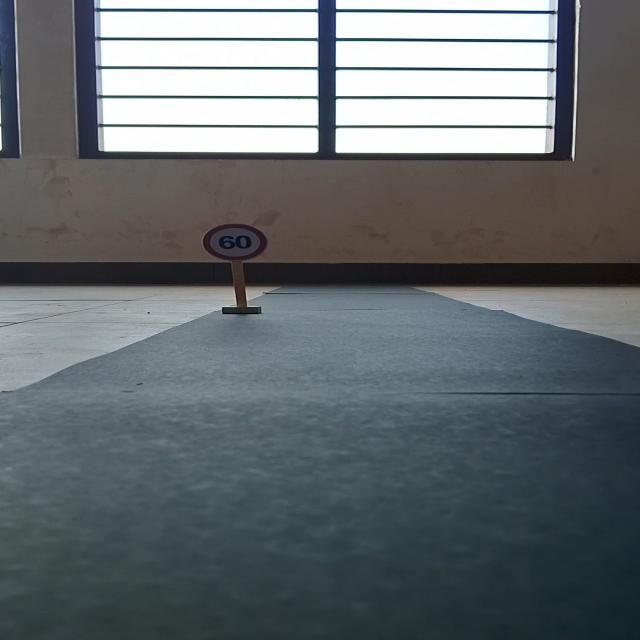Speed60: (203, 223, 271, 261)
